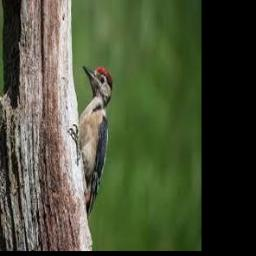Woodpecker: (78, 66, 112, 216)
